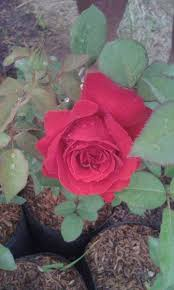rose: (32, 68, 153, 210)
